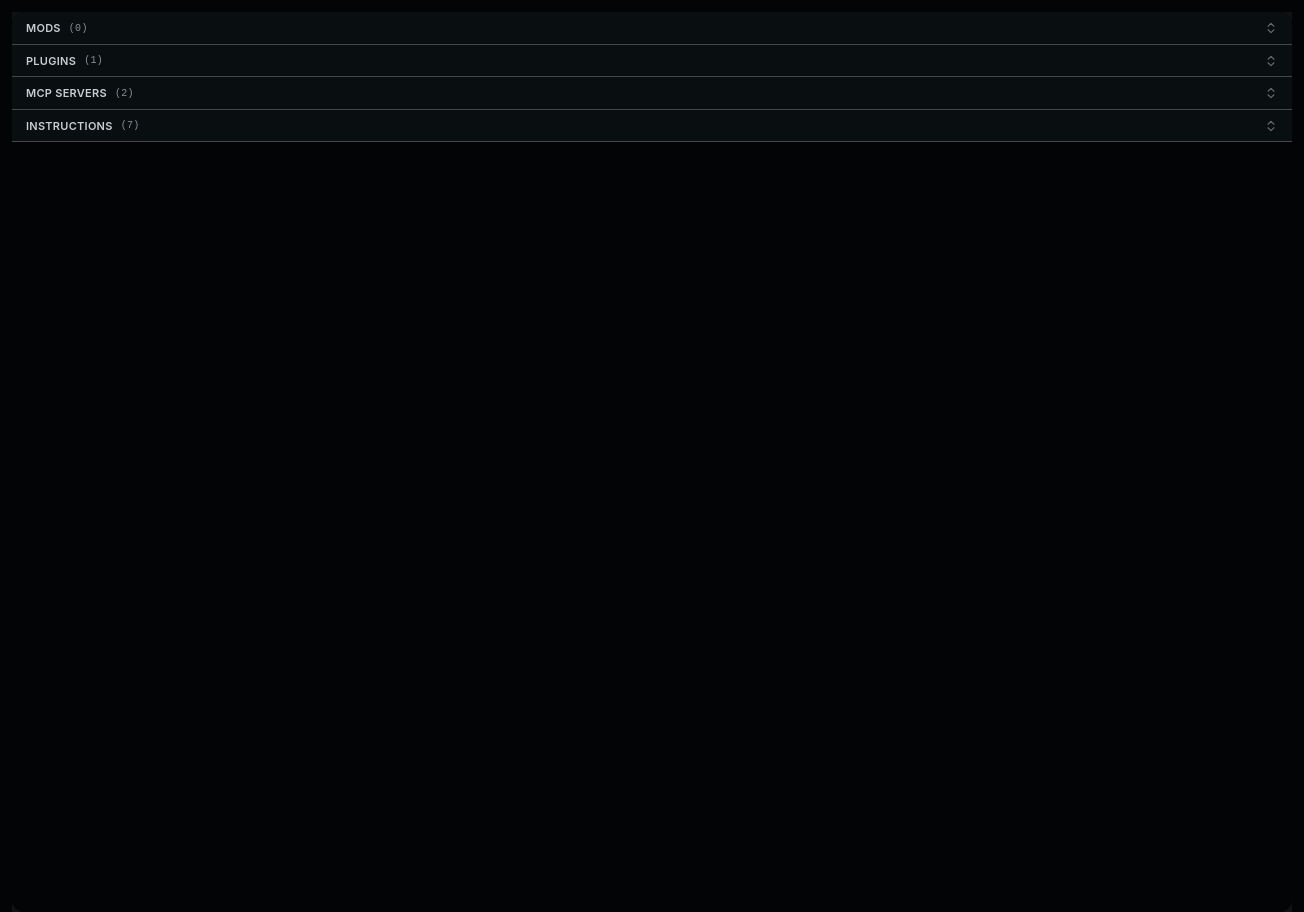
it: SessionContextPanel › says when no mods are loaded
Click the button "Mods (0)" at {"x": 43, "y": 28}, box [12, 12, 1292, 44]
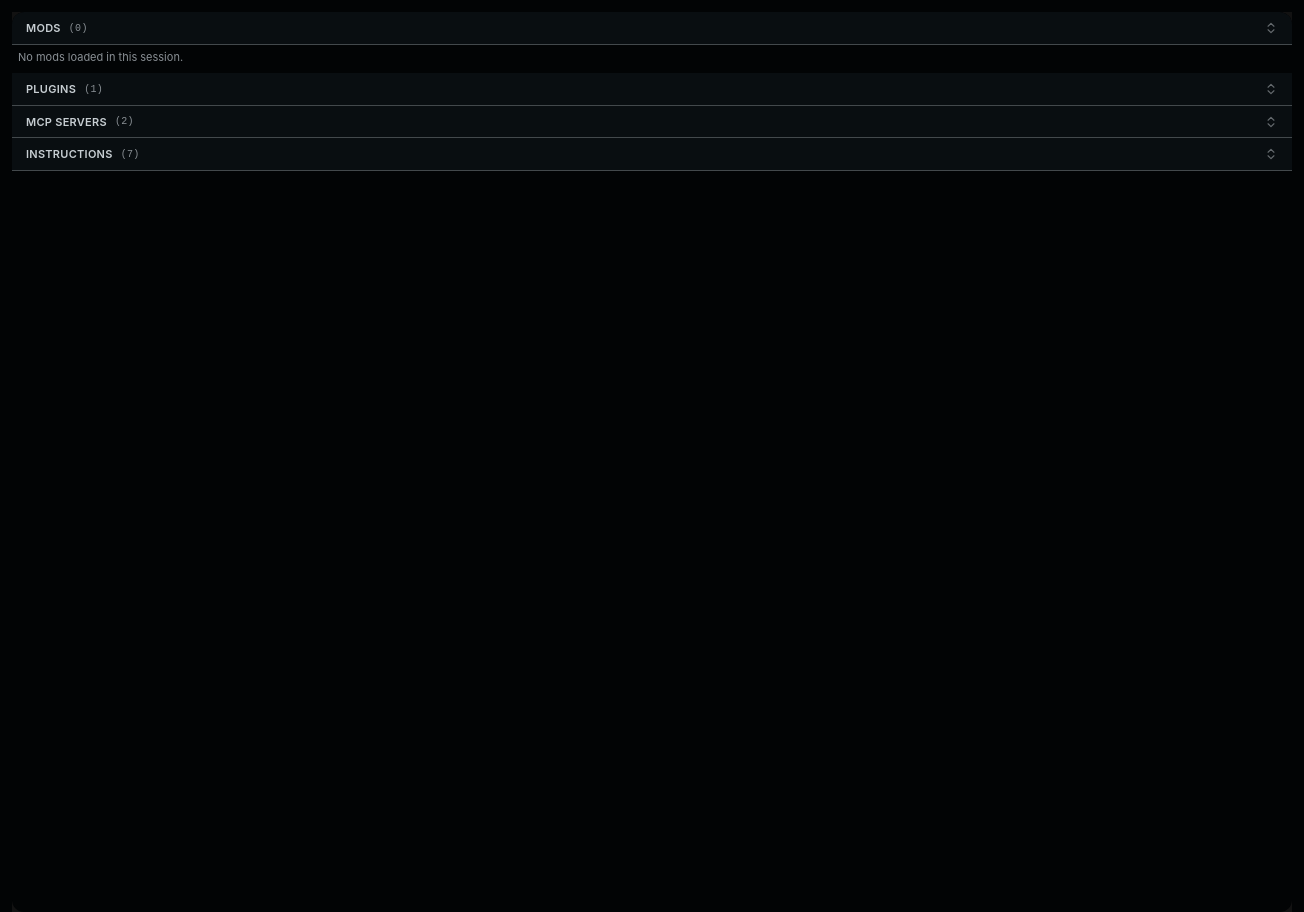
Result: the text "No mods loaded in this session." is shown at [18, 50, 183, 64]
